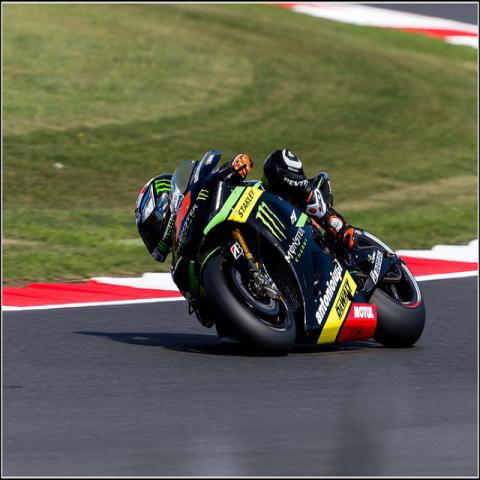motorcycle: (170, 150, 426, 357)
